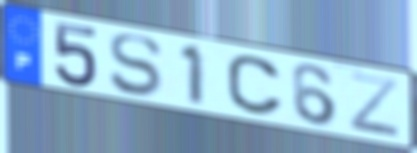1: (177, 43, 210, 109)
5: (51, 19, 99, 89)
6: (290, 62, 341, 130)
C: (224, 54, 287, 119)
S: (107, 33, 165, 98)
Z: (348, 70, 403, 141)
